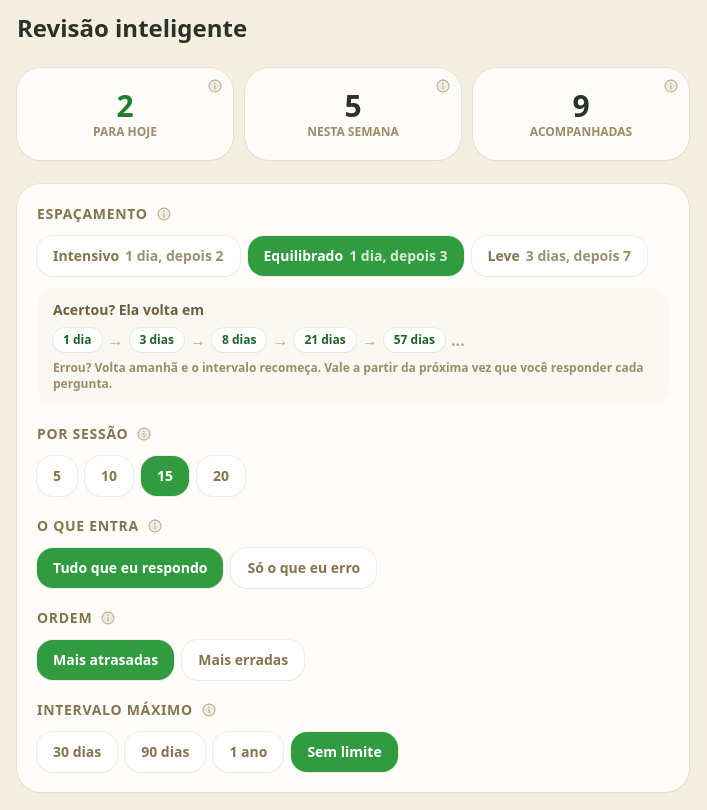
Test: ReviewPage › tells the player how many questions a session takes
Expected: the list named "intervalo" is shown, [53,328,465,352]
Click the button named "O que conta em para hoje". click: click(215, 86)
box: [205,76,225,96]
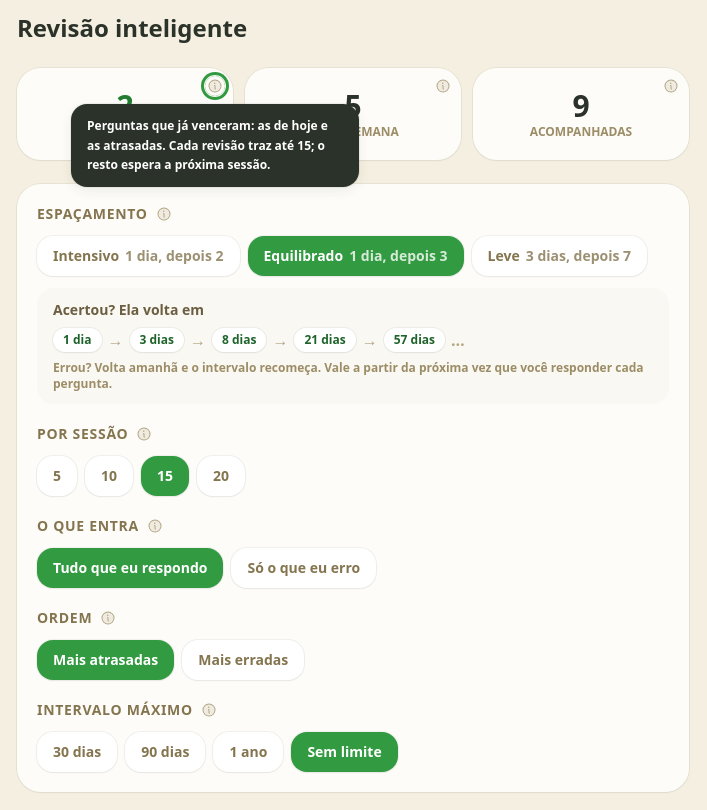
Now the tooltip shows "Cada revisão traz até 15", box [71,104,359,186]
